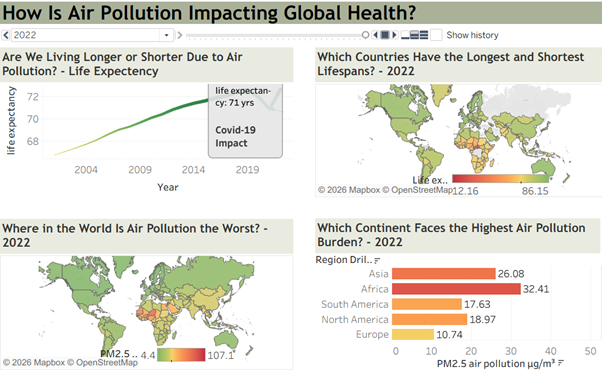

Layout of this report page (visuals, bound fields, positions):
{"tool":"tableau","page":{"name":"How Is Air Pollution Impacting Global Health?","canvas":[1150,700],"ordinal":1},"visuals":[{"type":"title","box":[8,8,1134,49]},{"type":"currpage","title":"Which Countries Have the Longest and Shortest Lifespans?","box":[8,57,1134,35]},{"type":"worksheet","title":"Are We Living Longer or Shorter Due to Air Pollution? - Life Expectency","mark":"Automatic","rows":[" 0"],"cols":["Year (life-expectancy.csv)"],"box":[8,92,546,283]},{"type":"blank","box":[554,92,32,283]},{"type":"worksheet","title":"Which Countries Have the Longest and Shortest Lifespans?","mark":"Automatic","box":[586,92,556,282.5]},{"type":"legend","title":"Which Countries Have the Longest and Shortest Lifespans?","param":"[federated.079m2f01r6wjzq1f6a3o006nbrij].[sum:Period life expectancy at birth - ","box":[765,325,258,49]},{"type":"blank","box":[586,374.5,556,31.5]},{"type":"blank","box":[8,375,578,32]},{"type":"worksheet","title":"Which Continent Faces the Highest Air Pollution Burden?","mark":"Automatic","cols":["PM2.5 air pollution µg/m³"],"box":[586,406,556,286]},{"type":"worksheet","title":"Where in the World Is Air Pollution the Worst?","mark":"Automatic","box":[8,407,546,285]},{"type":"blank","box":[554,407,32,285]},{"type":"legend","title":"Where in the World Is Air Pollution the Worst?","param":"[federated.079m2f01r6wjzq1f6a3o006nbrij].[sum:PM2.5 air pollution µg/m³:qk]","box":[194,644,252,40]}]}

Visuals, with their boxes in screenshot pixels (x1, y1, x2, y2), scaled from the page's 1150x700 canvas onto the 602x373 screenshot:
title: region(4, 4, 598, 30)
"Which Countries Have the Longest and Shortest Lifespans?" currpage: region(4, 30, 598, 49)
"Are We Living Longer or Shorter Due to Air Pollution? - Life Expectency" worksheet: region(4, 49, 290, 200)
blank: region(290, 49, 307, 200)
"Which Countries Have the Longest and Shortest Lifespans?" worksheet: region(307, 49, 598, 200)
"Which Countries Have the Longest and Shortest Lifespans?" legend: region(400, 173, 536, 199)
blank: region(307, 200, 598, 216)
blank: region(4, 200, 307, 217)
"Which Continent Faces the Highest Air Pollution Burden?" worksheet: region(307, 216, 598, 369)
"Where in the World Is Air Pollution the Worst?" worksheet: region(4, 217, 290, 369)
blank: region(290, 217, 307, 369)
"Where in the World Is Air Pollution the Worst?" legend: region(102, 343, 233, 364)
